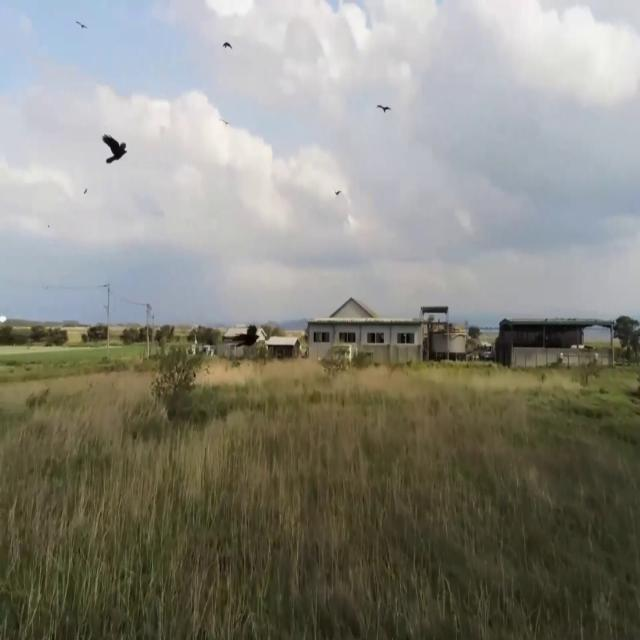bird: (100, 112, 128, 182), (376, 94, 392, 128), (75, 10, 88, 39), (222, 33, 232, 60)
